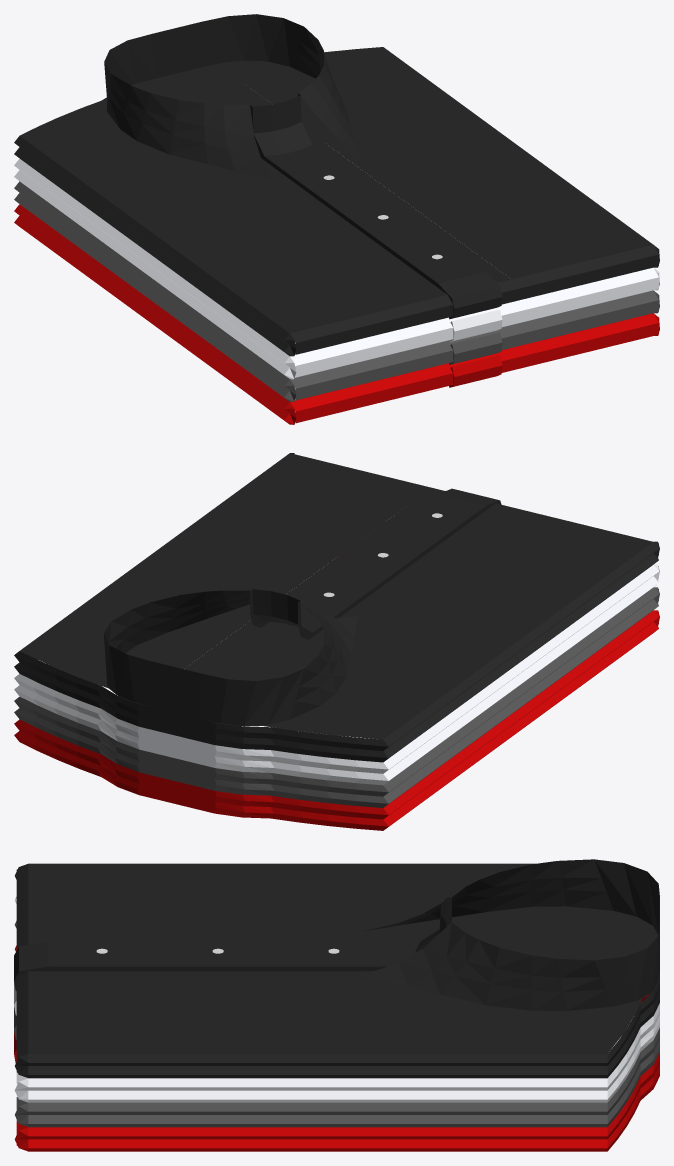
The model's file is FoldedShirts.dae.
3 renders of one model, top to bottom at view 1: azimuth 30°, elevation 25°; view 2: azimuth 150°, elevation 25°; view 3: azimuth 270°, elevation 25°, orthographic. The views are drawn at different scales.
Visible parts, largest first — view 1: Component_67 (×2), Component_61 (×2), Component_62 (×2), Component_63 (×2), Component_60, Component_59, Component_58; view 2: Component_67 (×2), Component_62, Component_61, Component_63; view 3: Component_67 (×2), Component_62 (×2), Component_61 (×2), Component_63 (×2).
Boxes of the visible parts, x1,y1,x2,y2 form: Component_67 (×2): [14, 14, 659, 356]; Component_61 (×2): [14, 204, 658, 424]; Component_62 (×2): [14, 181, 658, 401]; Component_63 (×2): [14, 158, 658, 379]; Component_60: [449, 355, 502, 387]; Component_59: [449, 332, 502, 364]; Component_58: [449, 309, 502, 341]; Component_67 (×2): [14, 453, 659, 762]; Component_62: [14, 587, 659, 807]; Component_61: [14, 610, 659, 830]; Component_63: [14, 564, 659, 785]; Component_67 (×2): [14, 859, 659, 1078]; Component_62 (×2): [14, 921, 659, 1127]; Component_61 (×2): [14, 945, 659, 1151]; Component_63 (×2): [14, 896, 659, 1102].
Bounding box in the file's own units: 9.31 × 12.96 × 3.26.
